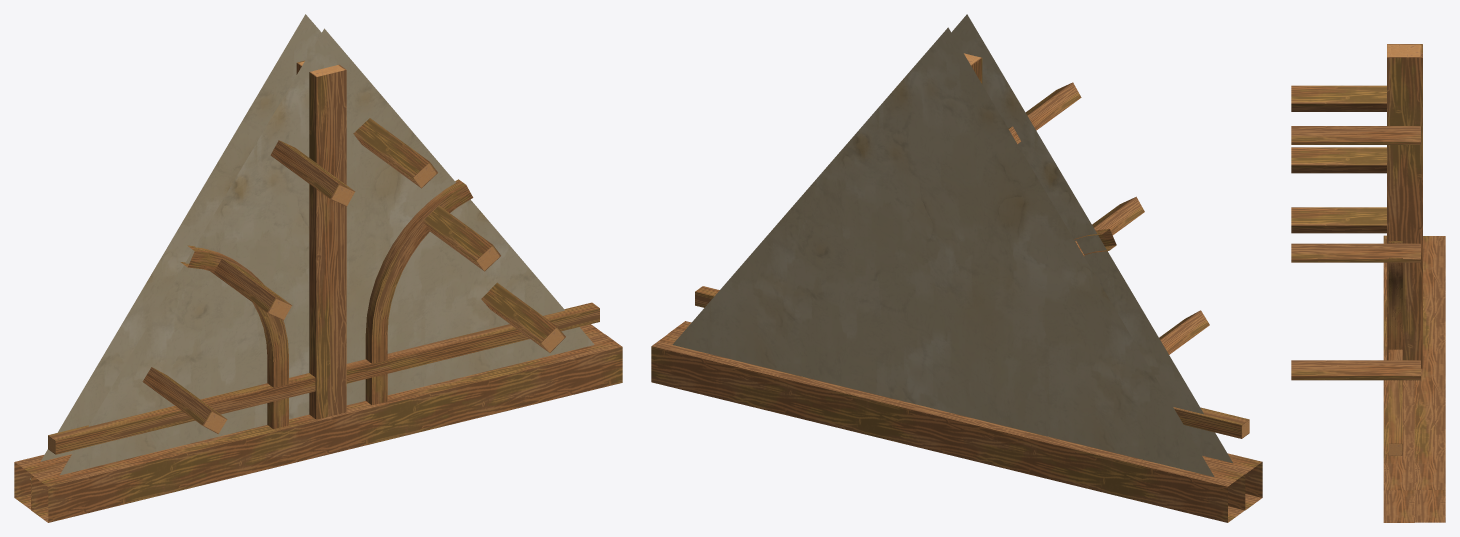
The model's file is Roof_Front_Brick4.glb.
3 renders of one model, left to right at view 1: azimuth 30°, elevation 25°; view 2: azimuth 150°, elevation 25°; view 3: azimuth 270°, elevation 25°, orthographic. The views are drawn at different scales.
Visible parts, largest first — view 1: Roof_Front_Brick4; view 2: Roof_Front_Brick4; view 3: Roof_Front_Brick4.
Boxes of the visible parts, left/top/right/bottom form: Roof_Front_Brick4: left=14, top=14, right=622, bottom=522; Roof_Front_Brick4: left=651, top=14, right=1262, bottom=522; Roof_Front_Brick4: left=1291, top=44, right=1445, bottom=522.
Size of the model in its own units: 4.4 by 3.07 by 1.13.
2 materials, 2 textured.
